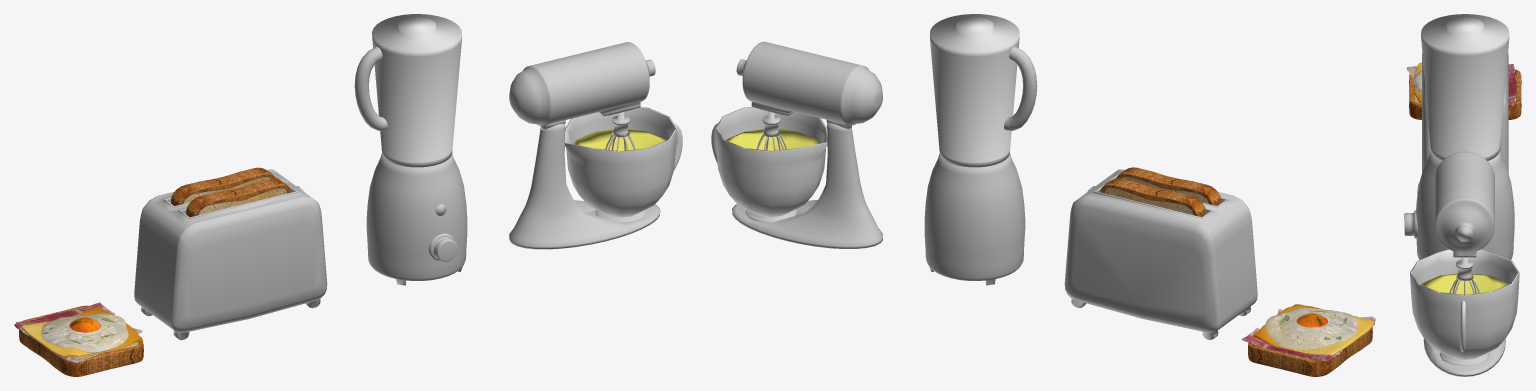
File: cooking device.fbx
3 renders of one model, left to right at view 1: azimuth 30°, elevation 25°; view 2: azimuth 150°, elevation 25°; view 3: azimuth 270°, elevation 25°, orthographic.
Parts seen in each view (by area): view 1: toaster, blender_glas, blender, Stand mixer_UP, Stand mixer_glas, Stand mixer, bacon and eggs_toast, toast.001, toast.002, Stand mixer_nakami, Stand mixer_UP.001; view 2: toaster, blender_glas, blender, Stand mixer_UP, Stand mixer_glas, Stand mixer, bacon and eggs_toast, toast.002, toast.001, Stand mixer_nakami, Stand mixer_UP.001; view 3: blender_glas, Stand mixer_glas, Stand mixer_UP, blender, bacon and eggs_toast, Stand mixer, toaster, Stand mixer_nakami, Stand mixer_UP.001.
Part boxes in pixels (box(x1,y1,x2,y2)): toaster: box(134, 169, 327, 340); blender_glas: box(354, 14, 461, 167); blender: box(366, 153, 467, 285); Stand mixer_UP: box(509, 42, 655, 129); Stand mixer_glas: box(565, 107, 682, 217); Stand mixer: box(509, 123, 660, 249); bacon and eggs_toast: box(14, 302, 143, 376); toast.001: box(186, 178, 291, 217); toast.002: box(171, 167, 276, 205); Stand mixer_nakami: box(573, 129, 666, 151); Stand mixer_UP.001: box(605, 112, 635, 150); toaster: box(1064, 169, 1257, 339); blender_glas: box(930, 14, 1037, 167); blender: box(924, 153, 1025, 285); Stand mixer_UP: box(736, 41, 882, 129); Stand mixer_glas: box(711, 106, 827, 216); Stand mixer: box(732, 123, 882, 248); bacon and eggs_toast: box(1242, 304, 1375, 376); toast.002: box(1100, 178, 1205, 217); toast.001: box(1116, 167, 1221, 205); Stand mixer_nakami: box(726, 129, 818, 150); Stand mixer_UP.001: box(756, 111, 786, 150); blender_glas: box(1421, 14, 1509, 160); Stand mixer_glas: box(1410, 249, 1519, 359); Stand mixer_UP: box(1434, 151, 1494, 257); blender: box(1404, 150, 1514, 260); bacon and eggs_toast: box(1406, 62, 1521, 119); Stand mixer: box(1423, 339, 1505, 376); toaster: box(1422, 52, 1508, 173); Stand mixer_nakami: box(1420, 273, 1508, 294); Stand mixer_UP.001: box(1449, 257, 1480, 294).
Size of the model in its own units: 104 by 37.29 by 16.66.
